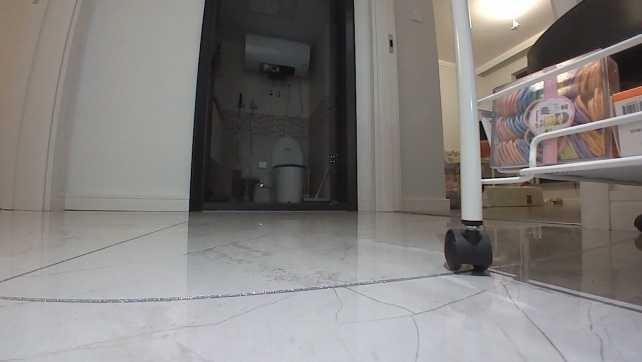door_sill: (202, 200, 335, 212)
toilet: (267, 132, 307, 202)
